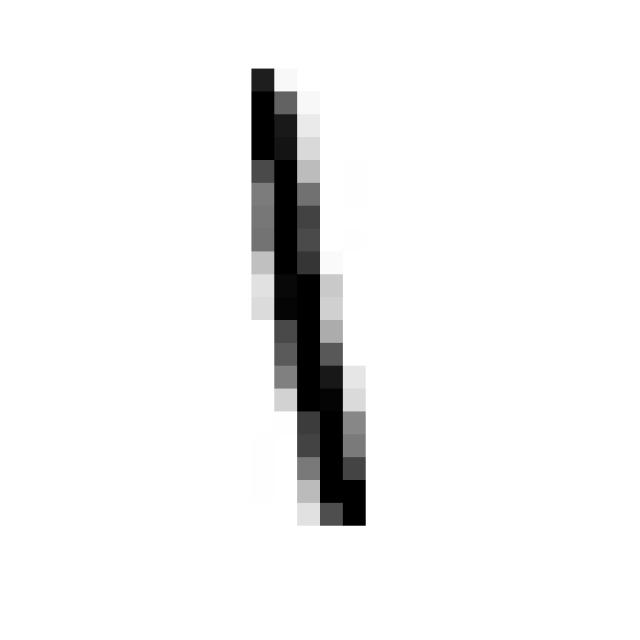1 -one-: (224, 55, 387, 548)
